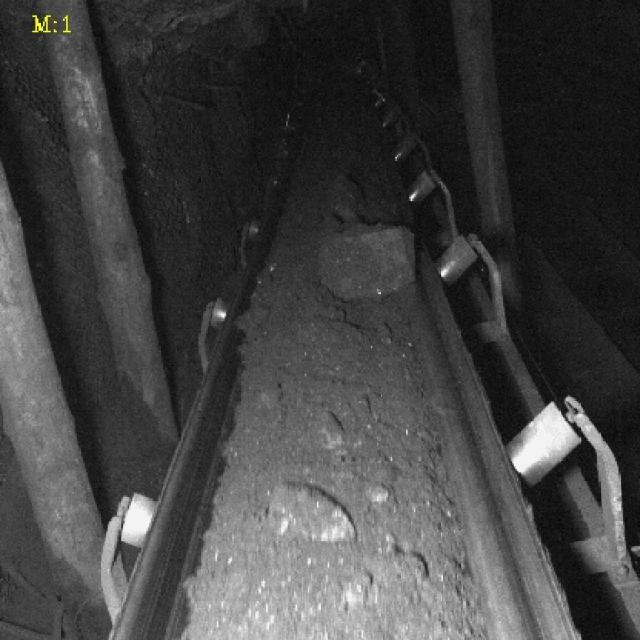large_sized_coal: (322, 219, 416, 303), (271, 482, 357, 546)
